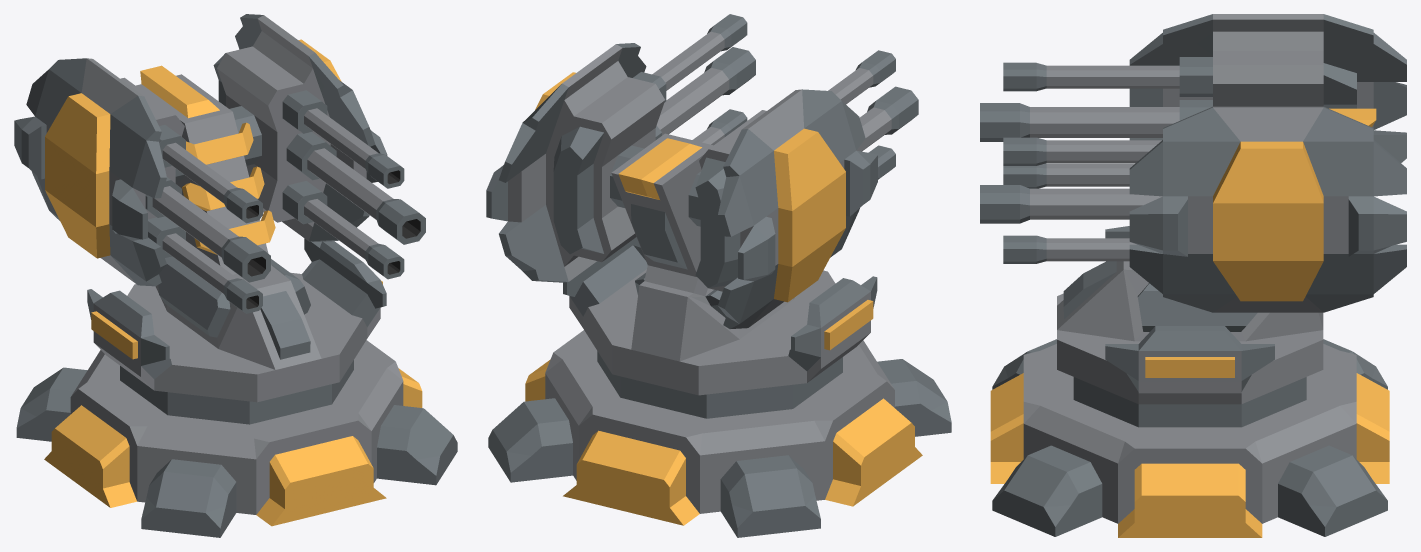
Rendered from Large Hex Cannon Turret.fbx.
3 views of the same model, side by side, from view 1: azimuth 30°, elevation 25°; view 2: azimuth 150°, elevation 25°; view 3: azimuth 270°, elevation 25° (orthographic). The views are drawn at different scales.
Parts seen in each view (by area): view 1: Base, Turret.005, TurretHeadRight, TurretHeadLeft, CannonLeftMid, CannonRightMid, CannonLeftTop, CannonRightBot, CannonRightTop, CannonLeftBot; view 2: Base, Turret.005, TurretHeadRight, TurretHeadLeft, CannonLeftMid, CannonLeftTop, CannonRightMid, CannonRightTop, CannonLeftBot; view 3: Base, TurretHeadLeft, Turret.005, TurretHeadRight, CannonRightMid, CannonLeftMid, CannonRightTop, CannonLeftTop, CannonLeftBot, CannonRightBot.
Part boxes in pixels (x1,y1,x2,y2): Base: (16, 340, 457, 537); Turret.005: (87, 65, 386, 402); TurretHeadRight: (14, 58, 185, 286); TurretHeadLeft: (213, 14, 387, 241); CannonLeftMid: (307, 148, 425, 244); CannonRightMid: (152, 186, 270, 282); CannonLeftTop: (304, 108, 404, 188); CannonRightBot: (162, 233, 262, 313); CannonRightTop: (162, 142, 262, 223); CannonLeftBot: (304, 199, 404, 279); Base: (488, 330, 951, 537); Turret.005: (563, 133, 877, 395); TurretHeadRight: (695, 89, 877, 328); TurretHeadLeft: (486, 43, 666, 282); CannonLeftMid: (656, 47, 755, 135); CannonLeftTop: (652, 14, 747, 90); CannonRightMid: (856, 86, 918, 151); CannonRightTop: (828, 50, 895, 104); CannonLeftBot: (692, 109, 747, 145); Base: (990, 339, 1389, 537); TurretHeadLeft: (1129, 106, 1406, 312); Turret.005: (1057, 108, 1376, 404); TurretHeadRight: (1129, 14, 1406, 162); CannonRightMid: (980, 103, 1179, 141); CannonLeftMid: (980, 185, 1162, 223); CannonRightTop: (1003, 62, 1179, 91); CannonLeftTop: (1003, 137, 1161, 165); CannonLeftBot: (1003, 235, 1136, 263); CannonRightBot: (1003, 163, 1134, 188).
Size of the model in its own units: 120 by 130 by 128.
